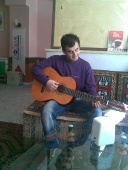male: (60, 34, 82, 65)
